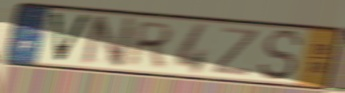4: (173, 21, 209, 77)
N: (79, 14, 139, 70)
R: (123, 20, 176, 69)
S: (257, 28, 305, 82)
V: (48, 10, 93, 65)
Z: (209, 26, 262, 78)
